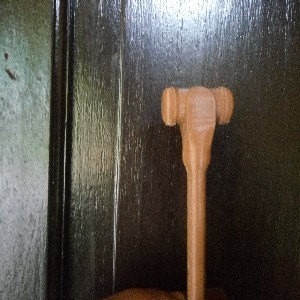palu: (161, 85, 233, 300)
